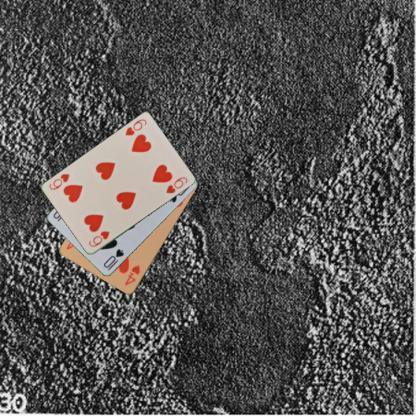10s: (100, 247, 126, 272)
4h: (121, 262, 142, 286)
6h: (86, 228, 111, 249), (122, 117, 148, 137)
